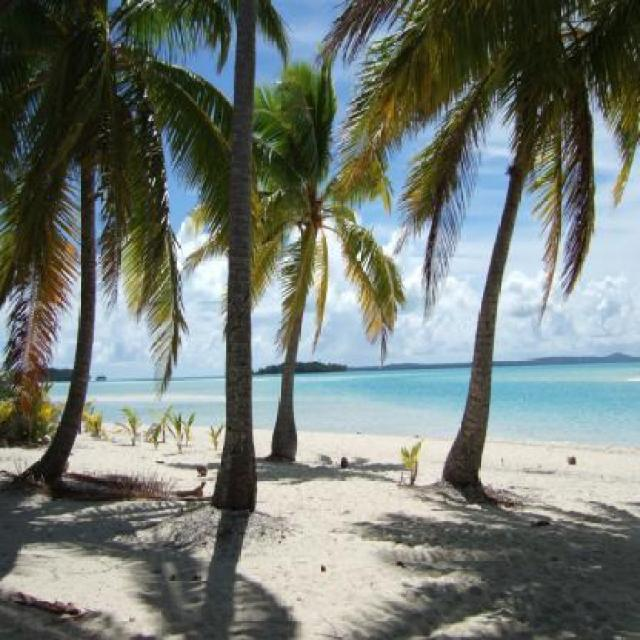Coconut: (312, 214, 324, 232)
